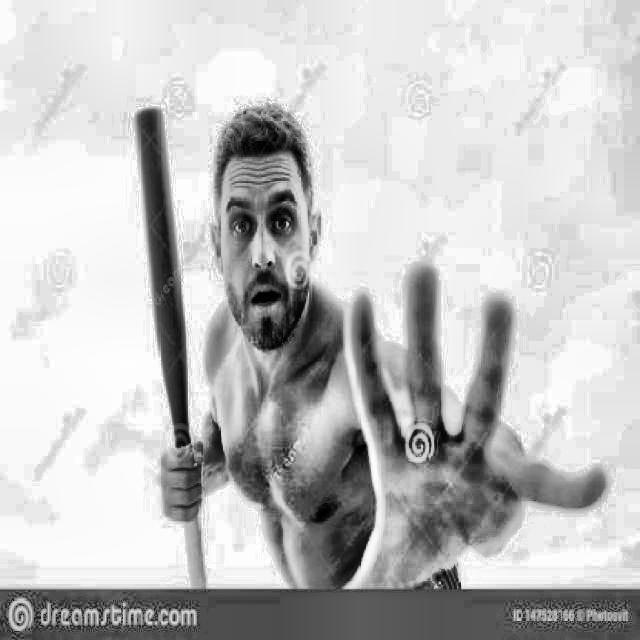tongkat pemukul: (118, 98, 218, 596)
